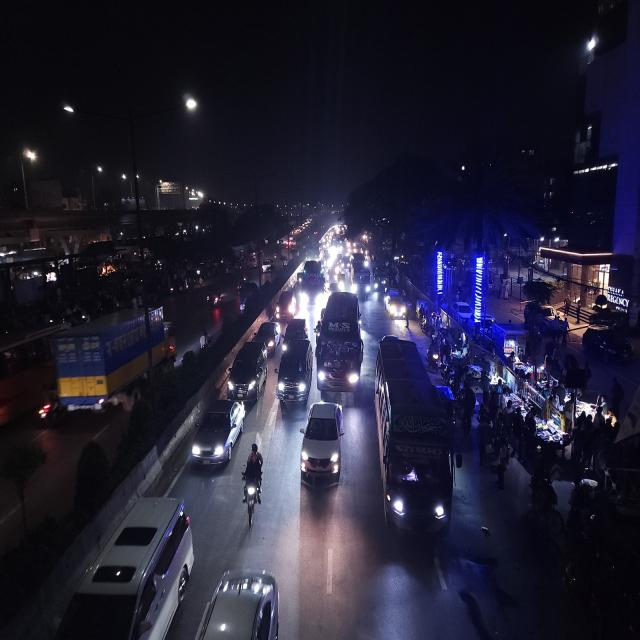bus: (374, 332, 456, 554), (0, 324, 56, 434), (316, 290, 364, 398), (300, 258, 326, 310), (350, 254, 370, 299)
car: (59, 492, 193, 640), (201, 564, 282, 640), (298, 398, 346, 495), (186, 397, 246, 473), (275, 328, 313, 410), (225, 339, 269, 406), (253, 320, 280, 356), (383, 281, 407, 321), (274, 283, 298, 320), (383, 290, 408, 321), (452, 297, 476, 324)
motorcycle: (240, 438, 266, 520)
truck: (52, 306, 174, 416), (300, 258, 326, 310)
